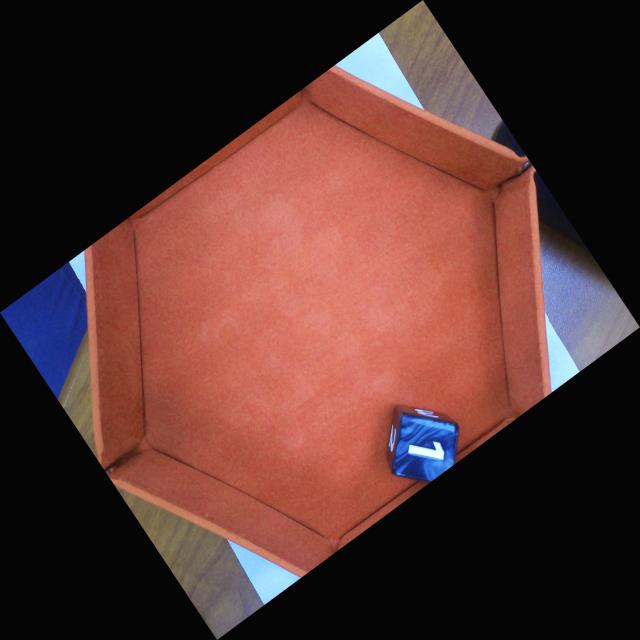dice: (388, 412, 462, 490)
